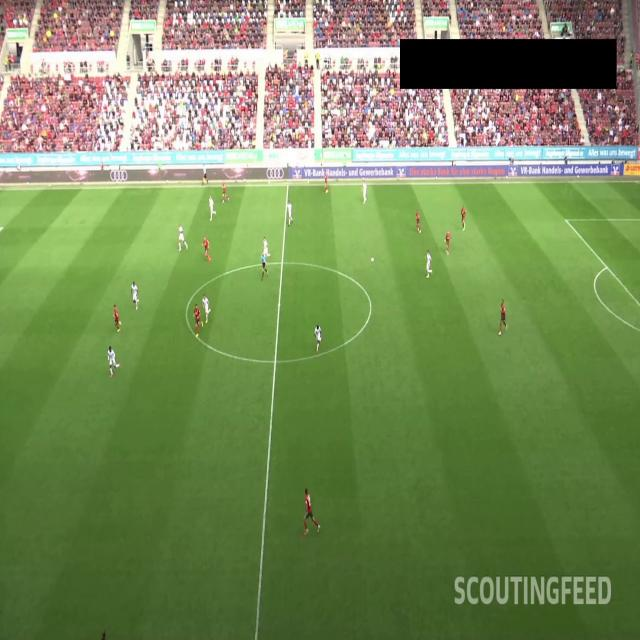Ball: (371, 257, 375, 263)
Referee: (260, 252, 269, 281), (201, 163, 209, 187)
TEAM 1: (304, 488, 321, 534), (193, 303, 204, 338), (499, 299, 508, 335), (112, 303, 122, 333), (202, 236, 211, 262), (221, 179, 230, 204), (416, 209, 422, 234), (461, 206, 467, 230), (444, 231, 450, 254), (324, 170, 329, 193)
TEAM 2: (107, 345, 121, 379), (130, 280, 140, 311), (424, 249, 434, 279), (202, 294, 212, 324), (178, 223, 188, 252), (314, 322, 322, 356), (286, 200, 294, 227), (209, 195, 217, 222), (262, 236, 271, 259), (361, 180, 368, 204)
